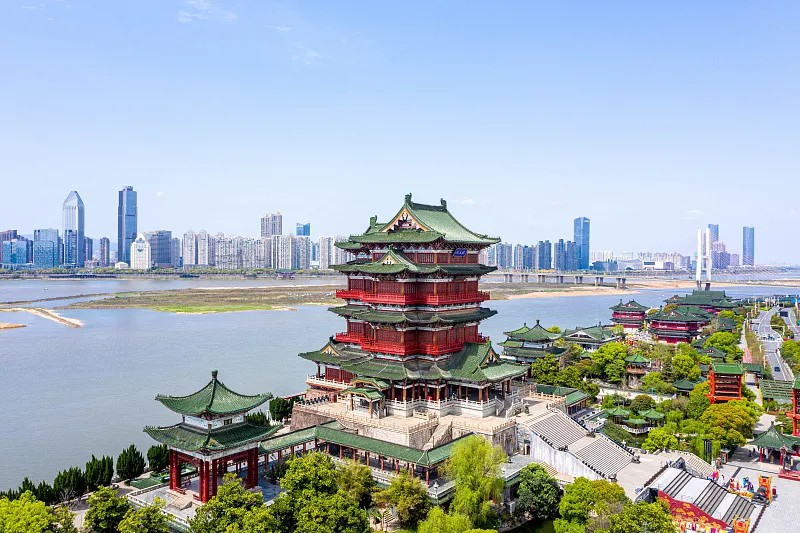Teng: (298, 192, 531, 410)
